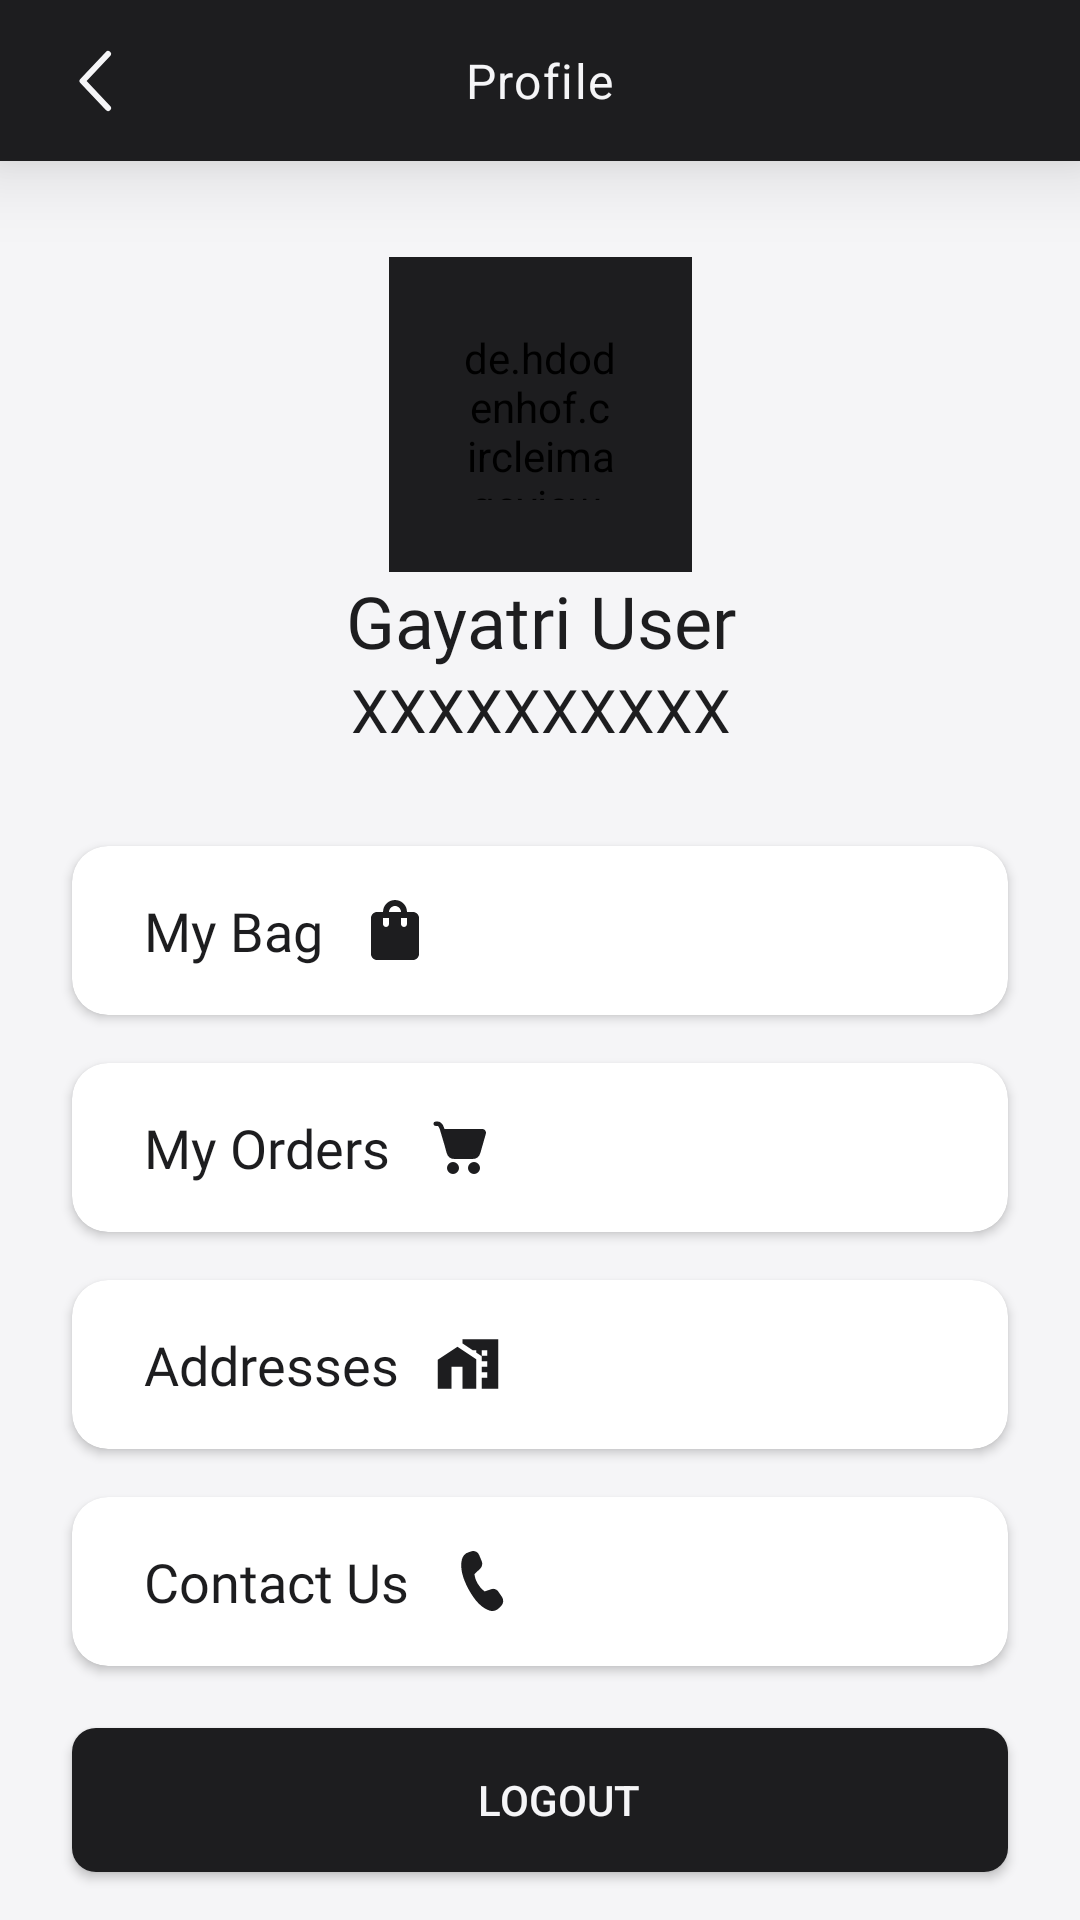

Point at icon controls on the screen. Image size 1080w x 1920h, points as point (x, y).
arrow back: point (95, 81)
